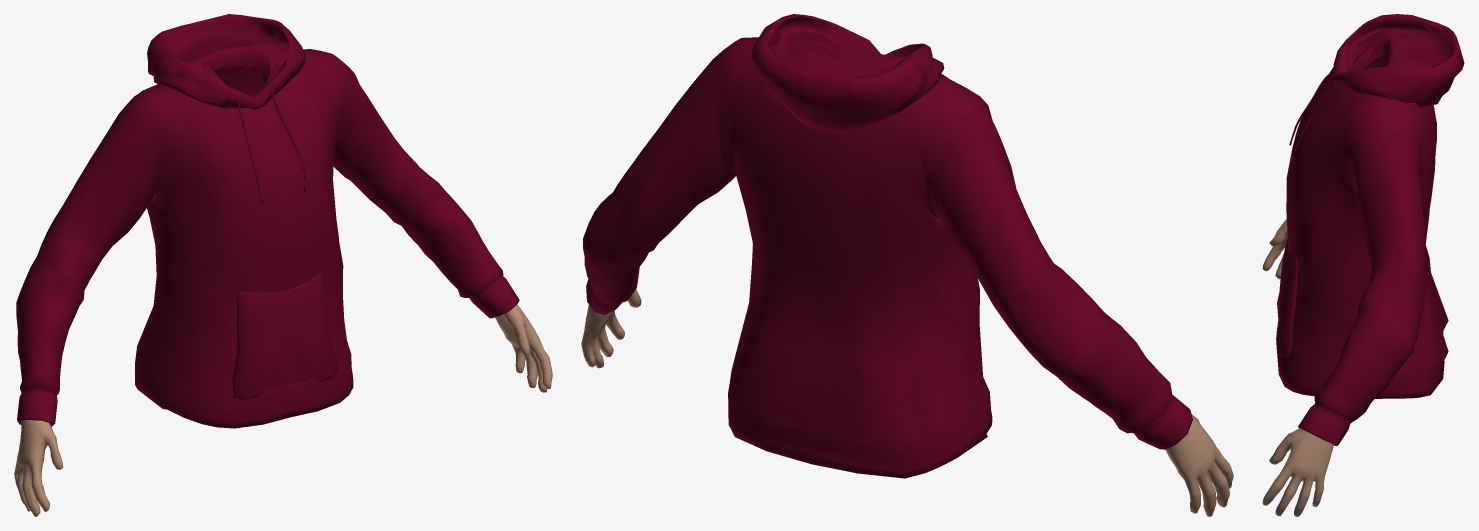
The model's file is 231101_G_Torso_01.glb.
The picture shows the model from 3 angles, left to right: view 1: azimuth 30°, elevation 25°; view 2: azimuth 150°, elevation 25°; view 3: azimuth 270°, elevation 25°; orthographic projection. The views are drawn at different scales.
Parts seen in each view (by area): view 1: G_Torso_01; view 2: G_Torso_01; view 3: G_Torso_01.
Boxes of the visible parts, x1,y1,x2,y2 form: G_Torso_01: (14,14,552,516); G_Torso_01: (581,14,1233,516); G_Torso_01: (1262,14,1464,516).
Bounding box in the file's own units: 1.02 × 0.6947 × 0.3562.
1 material, 1 textured.
